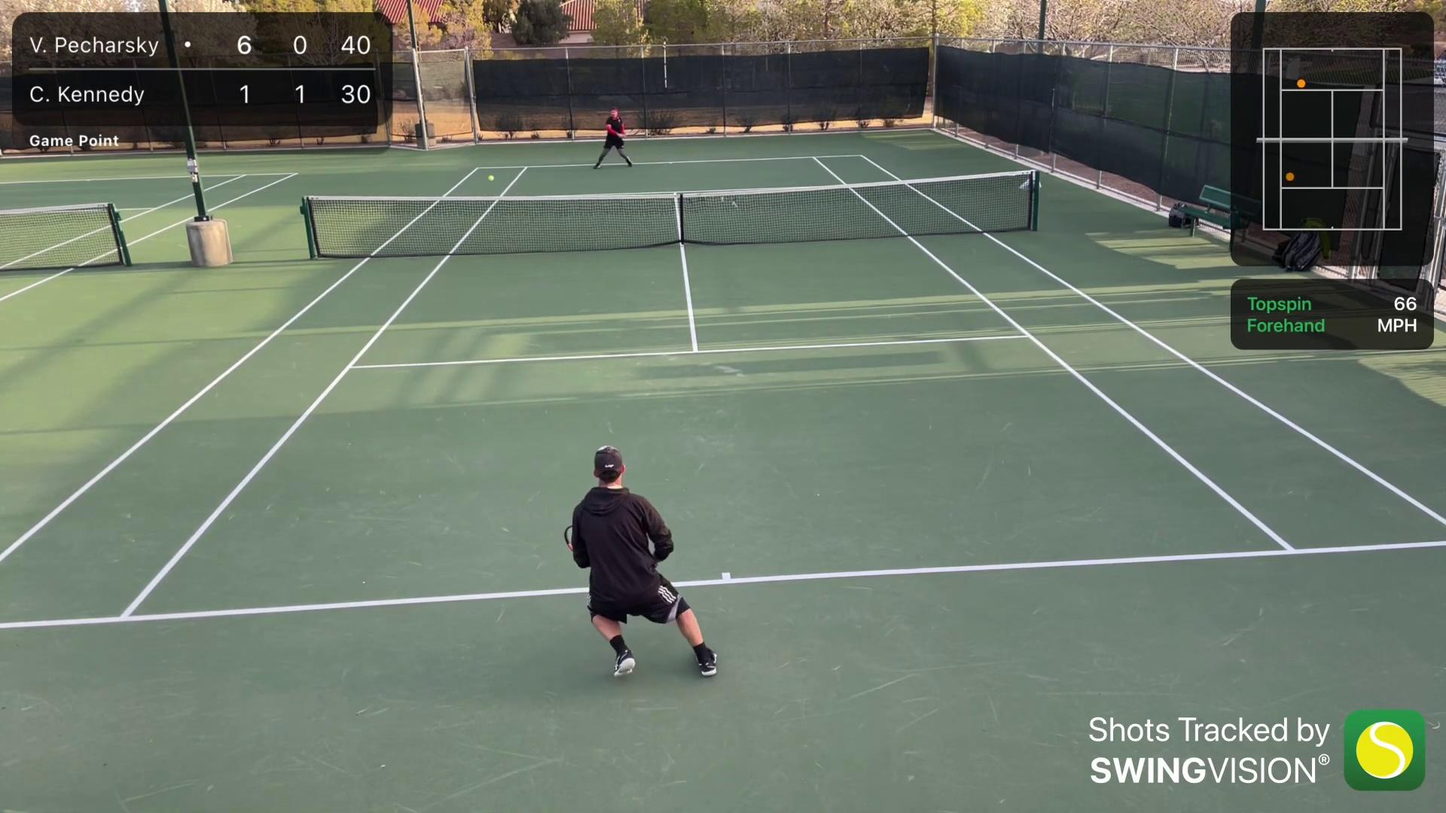ball: (486, 173, 495, 183)
